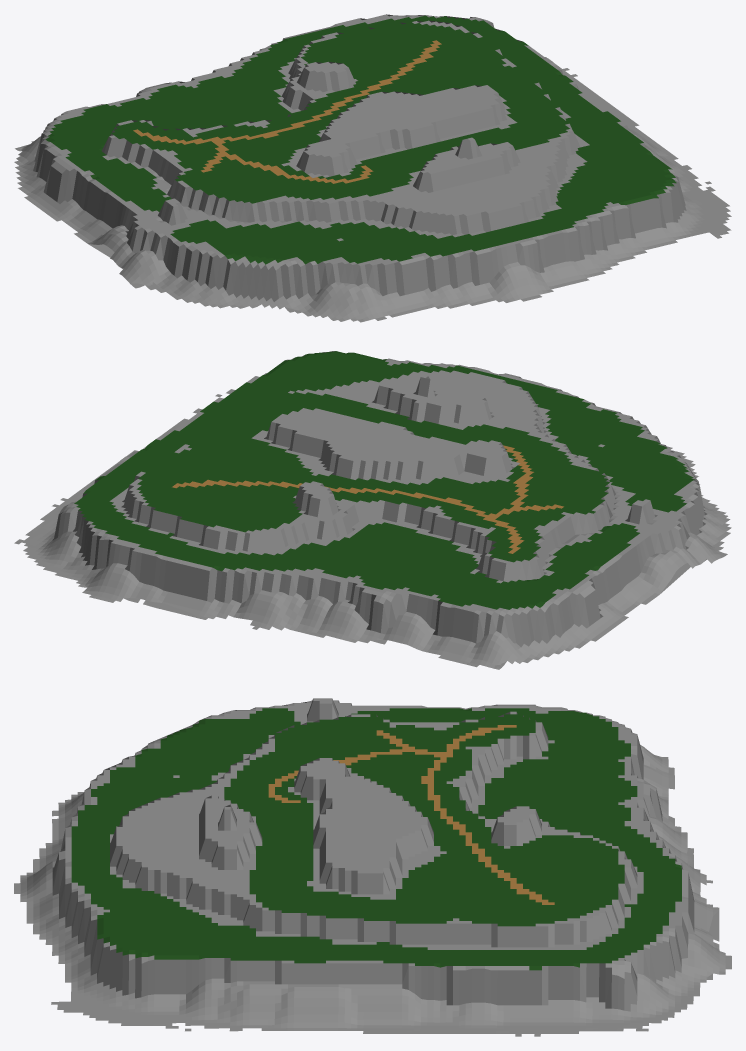
File: Island1.glb
3 views of the same model, one above another, from view 1: azimuth 30°, elevation 25°; view 2: azimuth 150°, elevation 25°; view 3: azimuth 270°, elevation 25° (orthographic). The views are drawn at different scales.
Visible parts, largest first — view 1: Landscape; view 2: Landscape; view 3: Landscape.
Boxes of the visible parts, x1,y1,x2,y2 form: Landscape: (14,14,731,322); Landscape: (14,351,731,669); Landscape: (14,698,731,1036).
Bounding box in the file's own units: 1.81 × 0.2683 × 1.78.
